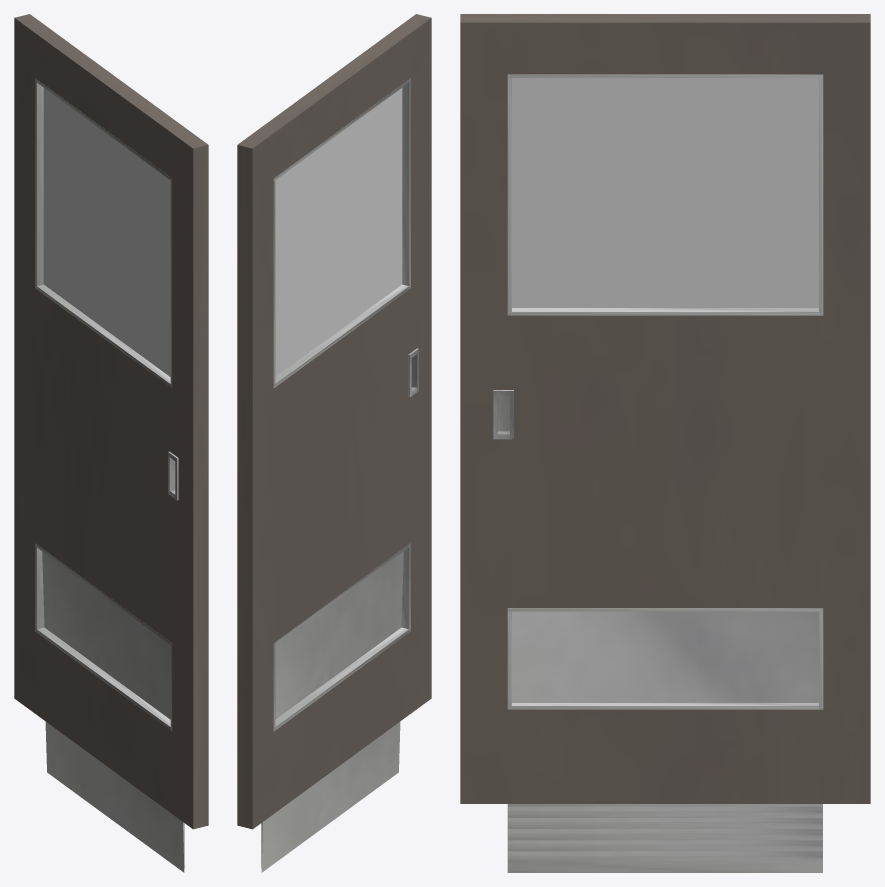
Rendered from door_wt.fbx.
3 renders of one model, left to right at view 1: azimuth 30°, elevation 25°; view 2: azimuth 150°, elevation 25°; view 3: azimuth 270°, elevation 25°, orthographic. The views are drawn at different scales.
Visible parts, largest first — view 1: Door, Glass pane, grill fins, frame s1, Grill b, Frame b, Grill s1, frame s2, Grill t, Frame t, Handle 2; view 2: Door, Glass pane, grill fins, frame s2, Grill b, Frame b, Grill s2, frame s1, Frame t, Grill t, Handle 2; view 3: Door, Glass pane, grill fins.007, grill fins, grill fins.001, grill fins.002, grill fins.004, grill fins.003, Frame b, Grill b, Frame t, Grill t (+4 smaller).
Part boxes in pixels (<box>): Door: <box>14,14,208,829</box>; Glass pane: <box>43,88,170,376</box>; grill fins: <box>42,552,184,872</box>; frame s1: <box>35,79,43,286</box>; Grill b: <box>35,627,172,731</box>; Frame b: <box>35,284,172,388</box>; Grill s1: <box>35,546,44,631</box>; frame s2: <box>170,181,172,386</box>; Grill t: <box>35,543,172,646</box>; Frame t: <box>35,78,172,181</box>; Handle 2: <box>168,451,178,500</box>; Door: <box>237,14,431,829</box>; Glass pane: <box>275,88,402,376</box>; grill fins: <box>261,552,403,872</box>; frame s2: <box>402,78,410,288</box>; Grill b: <box>273,627,410,731</box>; Frame b: <box>273,284,409,387</box>; Grill s2: <box>401,543,410,631</box>; frame s1: <box>273,181,275,387</box>; Frame t: <box>273,78,410,181</box>; Grill t: <box>274,543,410,644</box>; Handle 2: <box>408,348,418,397</box>; Door: <box>460,14,870,803</box>; Glass pane: <box>512,78,818,307</box>; grill fins.007: <box>512,611,818,702</box>; grill fins: <box>507,851,822,872</box>; grill fins.001: <box>507,840,822,851</box>; grill fins.002: <box>507,829,822,840</box>; grill fins.004: <box>507,806,822,817</box>; grill fins.003: <box>507,818,822,828</box>; Frame b: <box>508,308,822,315</box>; Grill b: <box>508,703,822,709</box>; Frame t: <box>508,74,822,77</box>; Grill t: <box>508,608,822,611</box>.
Size of the model in its own units: 6.09 by 229 by 100.
16 materials, 15 textured.
